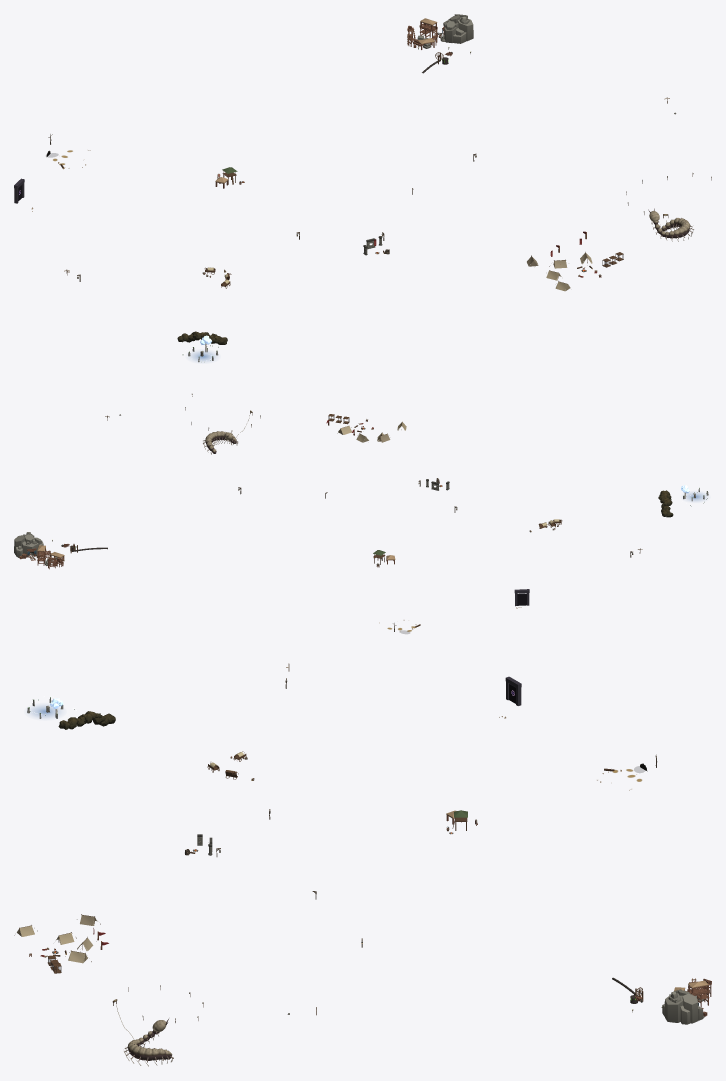
Rendered from landmarks.glb.
3 views of the same model, one above another, from view 1: azimuth 30°, elevation 25°; view 2: azimuth 150°, elevation 25°; view 3: azimuth 270°, elevation 25° (orthographic). The views are drawn at different scales.
Parts seen in each view (by area): view 1: kk-hex_buildings-building_mine_blue-26, thing, kk-hex_buildings-building_scaffolding-27; view 2: kk-hex_buildings-building_mine_blue-26, kk-hex_buildings-building_scaffolding-27, thing; view 3: kk-hex_buildings-building_mine_blue-26, thing.
Boxes of the visible parts, x1,y1,x2,y2 form: kk-hex_buildings-building_mine_blue-26: (435, 14, 473, 43); thing: (648, 208, 693, 241); kk-hex_buildings-building_scaffolding-27: (407, 18, 437, 49); kk-hex_buildings-building_mine_blue-26: (14, 532, 43, 560); kk-hex_buildings-building_scaffolding-27: (37, 545, 64, 569); thing: (203, 431, 238, 454); kk-hex_buildings-building_mine_blue-26: (662, 989, 707, 1024); thing: (124, 1019, 173, 1066).
Bounding box in the file's own units: 261 × 30.39 × 212.
Materials: 107 (7 with a texture image).
